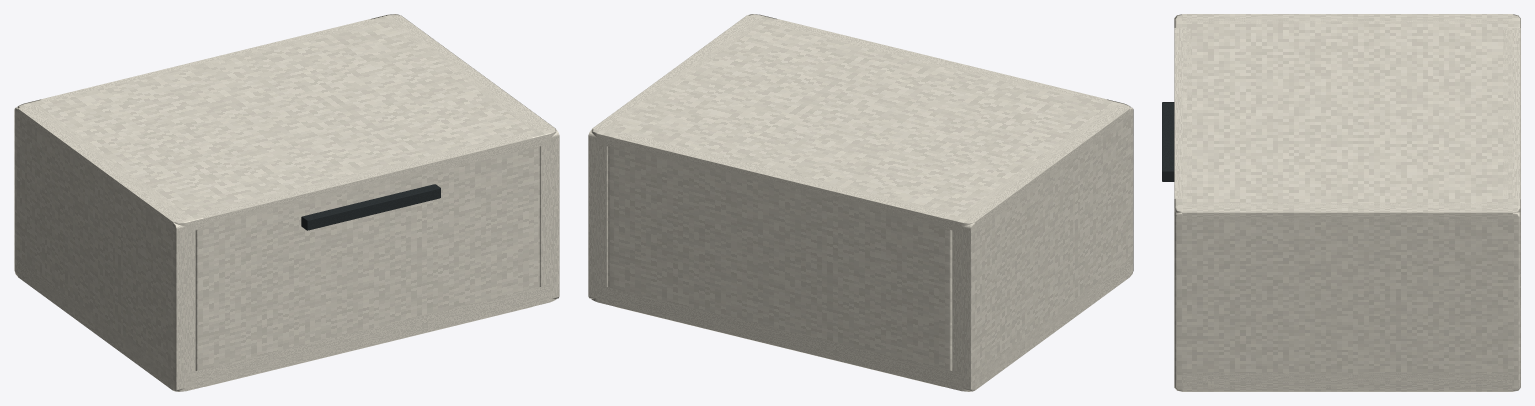
Rendered from lunch-box.glb.
The picture shows the model from 3 angles, left to right: view 1: azimuth 30°, elevation 25°; view 2: azimuth 150°, elevation 25°; view 3: azimuth 270°, elevation 25°; orthographic projection. The views are drawn at different scales.
Visible parts, largest first — view 1: lid, edge (×2), side (×2), bottom, grip; view 2: lid, edge (×2), side (×2), bottom; view 3: lid, side (×2), bottom, edge (×2), grip.
Part boxes in pixels (left/top/right/bottom): lid: left=17, top=14, right=556, bottom=231; edge (×2): left=41, top=19, right=540, bottom=386; side (×2): left=14, top=15, right=559, bottom=391; bottom: left=18, top=260, right=556, bottom=391; grip: left=301, top=184, right=440, bottom=230; lid: left=591, top=14, right=1130, bottom=232; edge (×2): left=607, top=19, right=1106, bottom=386; side (×2): left=588, top=15, right=1133, bottom=391; bottom: left=591, top=260, right=1129, bottom=391; lid: left=1174, top=14, right=1520, bottom=222; side (×2): left=1174, top=14, right=1520, bottom=391; bottom: left=1182, top=373, right=1512, bottom=391; edge (×2): left=1174, top=28, right=1520, bottom=198; grip: left=1162, top=102, right=1174, bottom=181.
Bounding box in the file's own units: 0.19 × 0.08 × 0.1449.
Materials: 2 (2 with a texture image).
